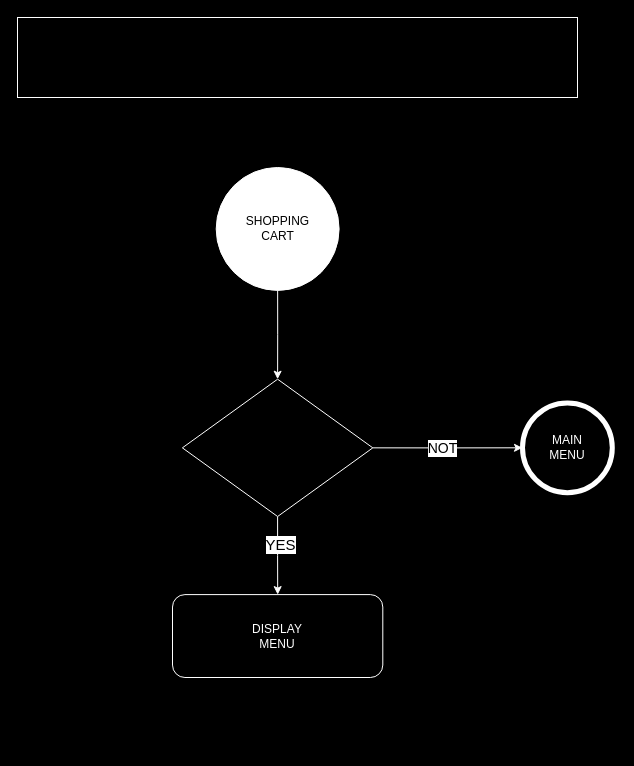
Image size: 634x766. Some labels were removed from this diagram. Here are the shapes that lost their labels. From the top down, the box of each, then its label:
(16, 16, 578, 98): CUSTOMER DASHBOARD MENU 5. PURCHASE HISTORY
(181, 378, 373, 516): EXIST HISTORY ?
